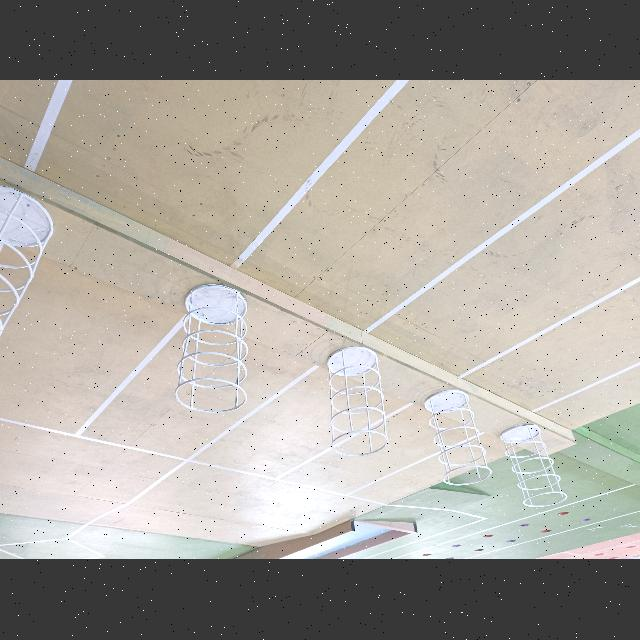S: (173, 284, 249, 417), (0, 181, 56, 338), (325, 346, 391, 459), (423, 388, 494, 489), (499, 422, 569, 509)
